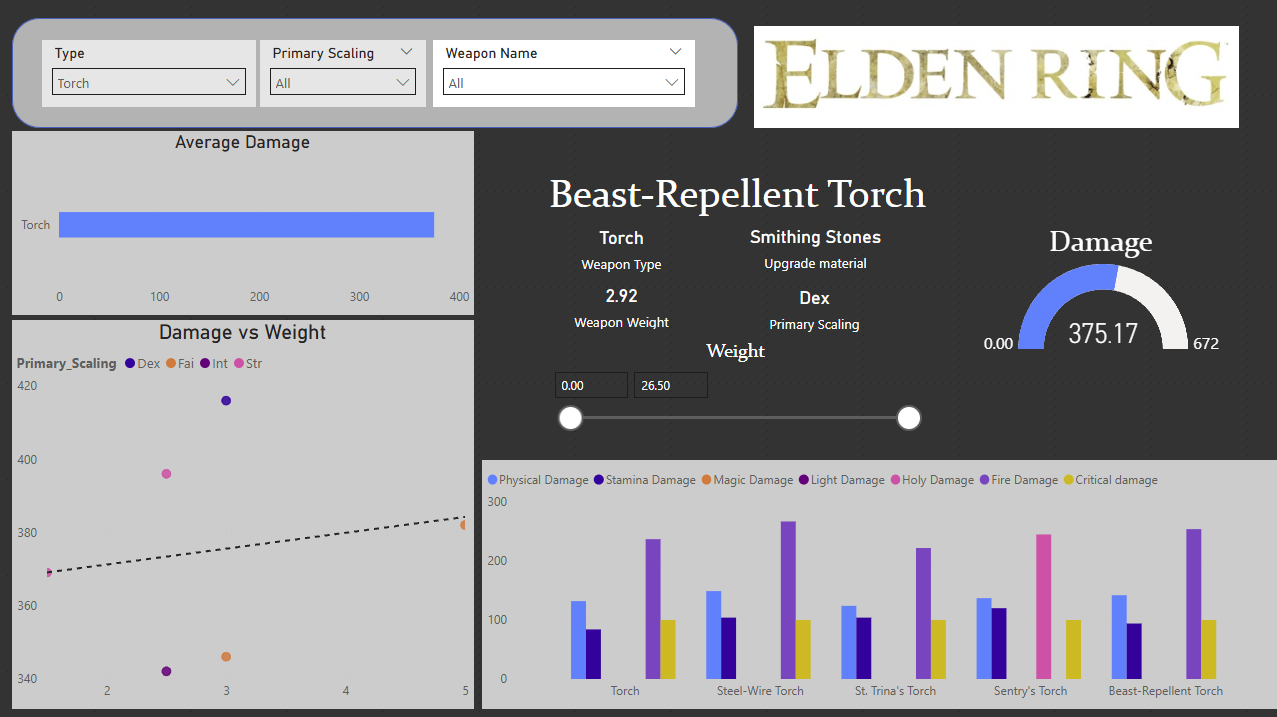

Layout of this report page (visuals, bound fields, positions):
{"tool":"powerbi","page":{"name":"Dashboard","canvas":[1280,720],"ordinal":0},"visuals":[{"type":"shape","box":[13,19,726,110],"z":0},{"type":"group","id":"g1","title":"Group 1","box":[506,156,462,184],"z":0,"group":"g2"},{"type":"slicer","fields":{"Values":["elden_ring_weapon_final_cleaned.Type"]},"box":[43,41,214,67],"z":1000},{"type":"slicer","title":"Weight","fields":{"Values":["elden_ring_weapon_final_cleaned.Wgt"]},"box":[543,340,388,99],"z":1000,"group":"g2"},{"type":"slicer","fields":{"Values":["elden_ring_weapon_final_cleaned.Primary_Scaling"]},"box":[261,41,166,67],"z":2000},{"type":"clusteredColumnChart","fields":{"Category":["elden_ring_weapon_final_cleaned.Name"],"Y":["Sum(elden_ring_weapon_final_cleaned.Phy)","Sum(elden_ring_weapon_final_cleaned.Sta)","Sum(elden_ring_weapon_final_cleaned.Mag)","Sum(elden_ring_weapon_final_cleaned.Lit)","Sum(elden_ring_weapon_final_cleaned.Hol)","Sum(elden_ring_weapon_final_cleaned.Fir)","Sum(elden_ring_weapon_final_cleaned.Cri)"]},"box":[483,461,797,249],"z":3000},{"type":"scatterChart","title":"Damage vs Weight","fields":{"X":["elden_ring_weapon_final_cleaned.Wgt"],"Y":["elden_ring_weapon_final_cleaned.Total_Damage"],"Series":["elden_ring_weapon_final_cleaned.Primary_Scaling"]},"box":[13,321,462,389],"z":4000},{"type":"slicer","fields":{"Values":["elden_ring_weapon_final_cleaned.Name"]},"box":[434,41,262,67],"z":5000},{"type":"card","fields":{"Values":["Min(elden_ring_weapon_final_cleaned.Type)"]},"box":[506,208,232.7,78],"z":6000,"group":"g1"},{"type":"clusteredBarChart","title":"Average Damage","fields":{"Y":["Avg(elden_ring_weapon_final_cleaned.Total_Damage)"],"Category":["elden_ring_weapon_final_cleaned.Type"]},"box":[13,132,462,184],"z":7000},{"type":"group","id":"g2","title":"Group 2","box":[506,156,462,283],"z":8000},{"type":"card","fields":{"Values":["Avg(elden_ring_weapon_final_cleaned.Wgt)"]},"box":[555.9,275,132.9,60],"z":8000,"group":"g1"},{"type":"card","fields":{"Values":["Min(elden_ring_weapon_final_cleaned.Upgrade)"]},"box":[688.8,213,254.8,67],"z":9000,"group":"g1"},{"type":"gauge","title":"Damage","fields":{"Y":["Avg(elden_ring_weapon_final_cleaned.Total_Damage)"],"MaxValue":["Max(weapon20.Total_Damage)"]},"box":[925,224,355,136],"z":9000},{"type":"image","box":[750,0,495,156],"z":9001},{"type":"card","fields":{"Values":["Min(elden_ring_weapon_final_cleaned.Primary_Scaling)"]},"box":[705.4,275,220.5,65],"z":10000,"group":"g1"},{"type":"card","fields":{"Values":["Min(elden_ring_weapon_final_cleaned.Name)"]},"box":[509.3,156,458.7,71],"z":11000,"group":"g1"}]}

Visuals, with their boxes in screenshot pixels (x1, y1, x2, y2), scaled from the page's 1280x720 canvas onto the 1277x717 screenshot:
shape: crop(13, 19, 737, 128)
"Group 1" group: crop(505, 155, 966, 339)
slicer - elden_ring_weapon_final_cleaned.Type: crop(43, 41, 256, 108)
"Weight" slicer: crop(542, 339, 929, 437)
slicer - elden_ring_weapon_final_cleaned.Primary_Scaling: crop(260, 41, 426, 108)
clusteredColumnChart - elden_ring_weapon_final_cleaned.Name x Sum(elden_ring_weapon_final_cleaned.Phy): crop(482, 459, 1276, 707)
"Damage vs Weight" scatterChart: crop(13, 320, 474, 707)
slicer - elden_ring_weapon_final_cleaned.Name: crop(433, 41, 694, 108)
card - Min(elden_ring_weapon_final_cleaned.Type): crop(505, 207, 737, 285)
"Average Damage" clusteredBarChart: crop(13, 131, 474, 315)
"Group 2" group: crop(505, 155, 966, 437)
card - Avg(elden_ring_weapon_final_cleaned.Wgt): crop(555, 274, 687, 334)
card - Min(elden_ring_weapon_final_cleaned.Upgrade): crop(687, 212, 941, 279)
"Damage" gauge: crop(923, 223, 1276, 358)
image: crop(748, 0, 1242, 155)
card - Min(elden_ring_weapon_final_cleaned.Primary_Scaling): crop(704, 274, 924, 339)
card - Min(elden_ring_weapon_final_cleaned.Name): crop(508, 155, 966, 226)
